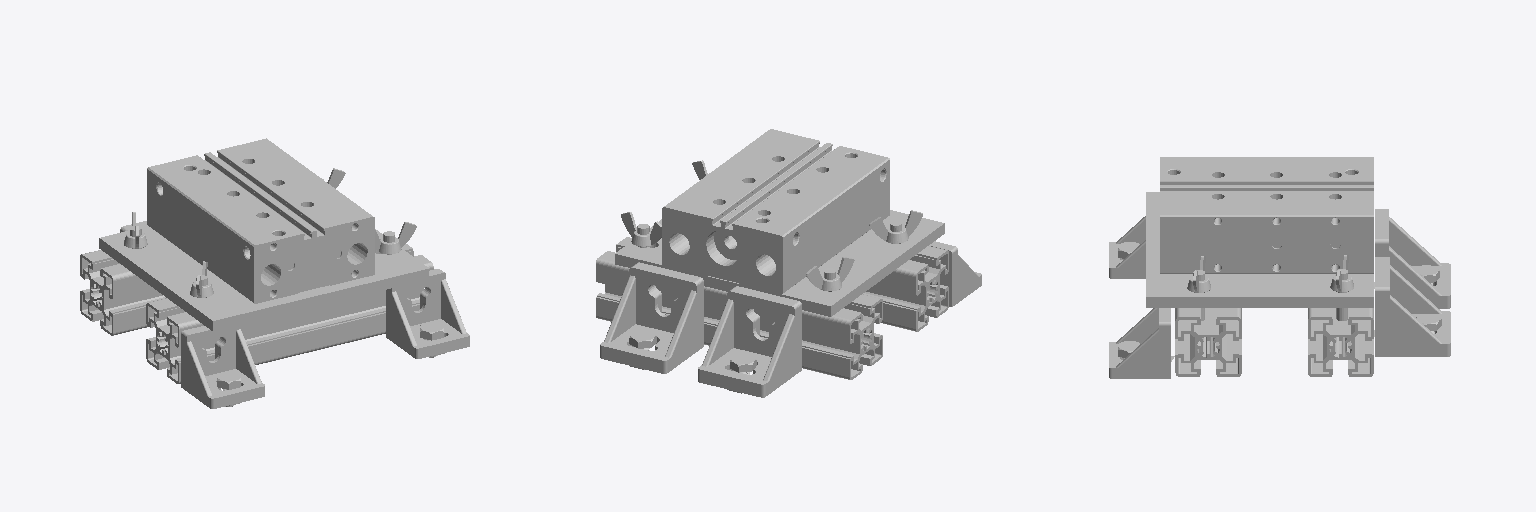
Rendered from foundation_slider.obj.
3 renders of one model, left to right at view 1: azimuth 30°, elevation 25°; view 2: azimuth 150°, elevation 25°; view 3: azimuth 270°, elevation 25°, orthographic.
Visible parts, largest first — view 1: Left_fixed_ClampingSystem_Fixed.007; view 2: Left_fixed_ClampingSystem_Fixed.007; view 3: Left_fixed_ClampingSystem_Fixed.007.
Part boxes in pixels (left/top/right/bottom): Left_fixed_ClampingSystem_Fixed.007: left=80, top=138, right=469, bottom=408; Left_fixed_ClampingSystem_Fixed.007: left=596, top=129, right=981, bottom=397; Left_fixed_ClampingSystem_Fixed.007: left=1109, top=157, right=1450, bottom=378.
Bounding box in the file's own units: 2.04 × 1.04 × 2.33.